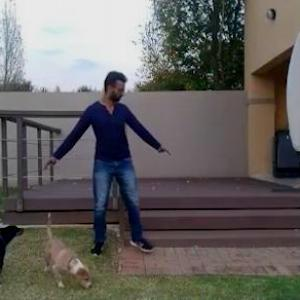land: (47, 70, 174, 253)
